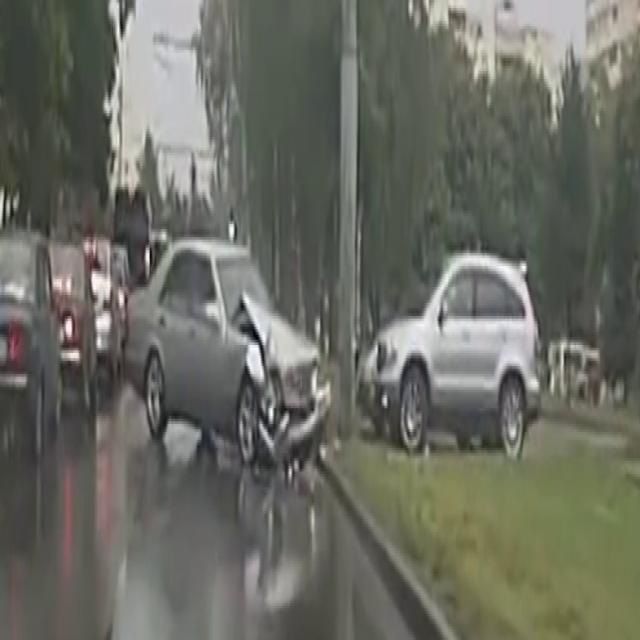accident: (124, 208, 337, 503)
